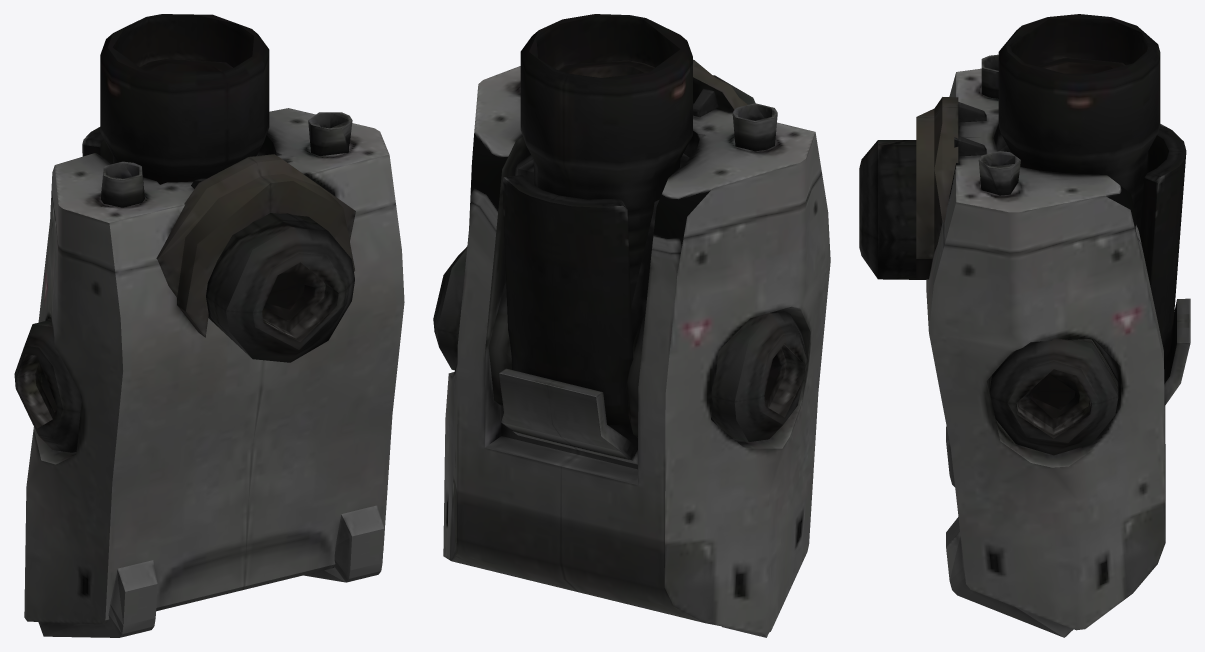
The model's file is suregrip-th2-tractor-beam.glb.
3 views of the same model, side by side, from view 1: azimuth 30°, elevation 25°; view 2: azimuth 150°, elevation 25°; view 3: azimuth 270°, elevation 25° (orthographic). The views are drawn at different scales.
Parts seen in each view (by area): view 1: tractor_beam_housing; view 2: tractor_beam_housing; view 3: tractor_beam_housing.
Part boxes in pixels (bbox=[...]): tractor_beam_housing: bbox=[14, 14, 404, 637]; tractor_beam_housing: bbox=[433, 14, 830, 637]; tractor_beam_housing: bbox=[859, 14, 1190, 637].
Size of the model in its own units: 0.9448 by 1.54 by 0.882.
Materials: 1 (1 with a texture image).
